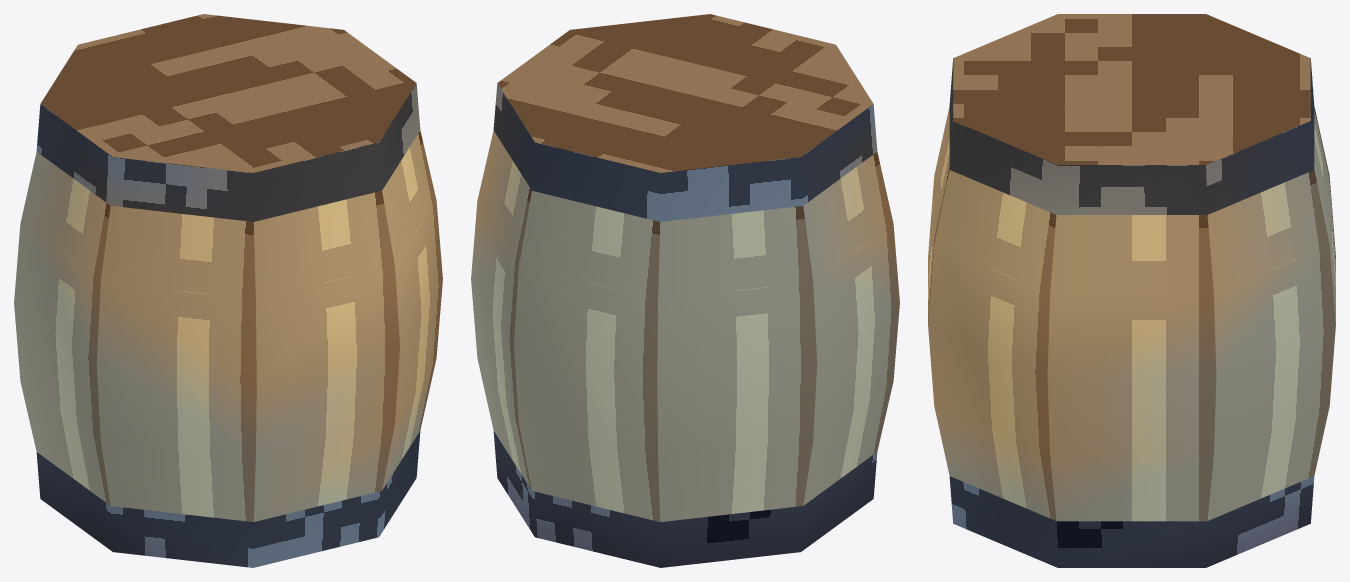
Rendered from wprop.barrel__keg.glb.
The picture shows the model from 3 angles, left to right: view 1: azimuth 30°, elevation 25°; view 2: azimuth 150°, elevation 25°; view 3: azimuth 270°, elevation 25°; orthographic projection.
Visible parts, largest first — view 1: kit_barrel; view 2: kit_barrel; view 3: kit_barrel.
Part boxes in pixels (x1,y1,x2,y2): kit_barrel: [14, 14, 442, 567]; kit_barrel: [471, 14, 899, 567]; kit_barrel: [928, 14, 1335, 567].
Bounding box in the file's own units: 0.5687 × 0.62 × 0.5687.
Materials: 3 (3 with a texture image).
